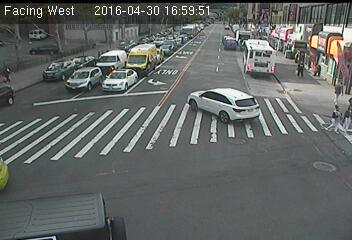neg: (42, 38, 62, 63), (160, 32, 179, 57), (70, 46, 88, 71), (135, 41, 152, 64), (229, 71, 245, 93), (210, 54, 224, 72), (112, 49, 123, 63)
pos: (324, 102, 346, 132), (326, 78, 344, 103), (295, 58, 310, 78), (1, 64, 14, 83), (309, 61, 323, 78), (294, 46, 306, 62)
